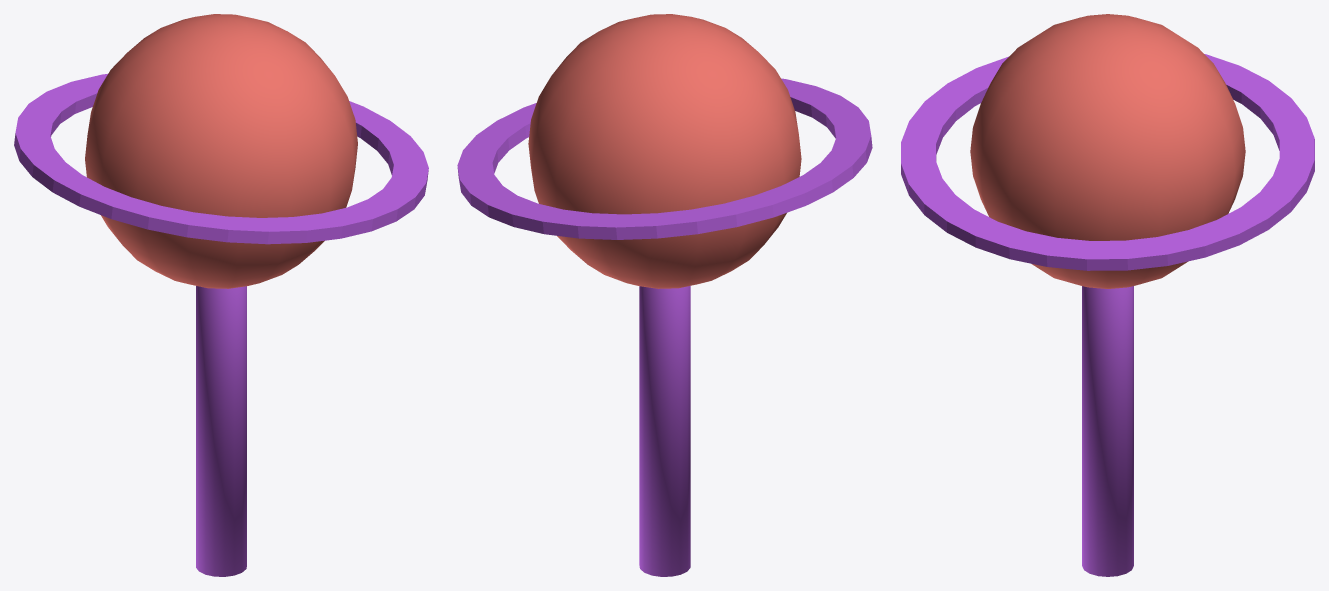
The model's file is 拉杆开关.fbx.
3 renders of one model, left to right at view 1: azimuth 30°, elevation 25°; view 2: azimuth 150°, elevation 25°; view 3: azimuth 270°, elevation 25°, orthographic.
Parts seen in each view (by area): view 1: 拉杆; view 2: 拉杆; view 3: 拉杆.
Part boxes in pixels (x1,y1,x2,y2): 拉杆: (14,14,428,576); 拉杆: (457,14,872,576); 拉杆: (901,14,1314,576).
Size of the model in its own units: 32.72 by 47.17 by 32.82.
